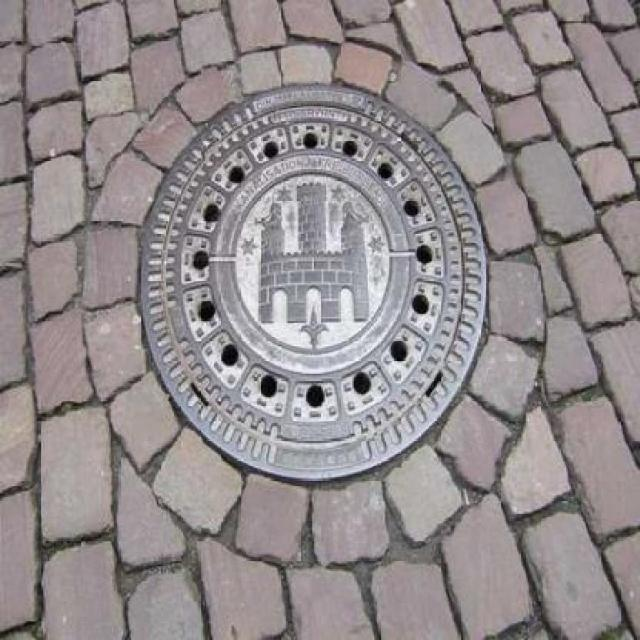Manhole: (131, 70, 504, 492)
